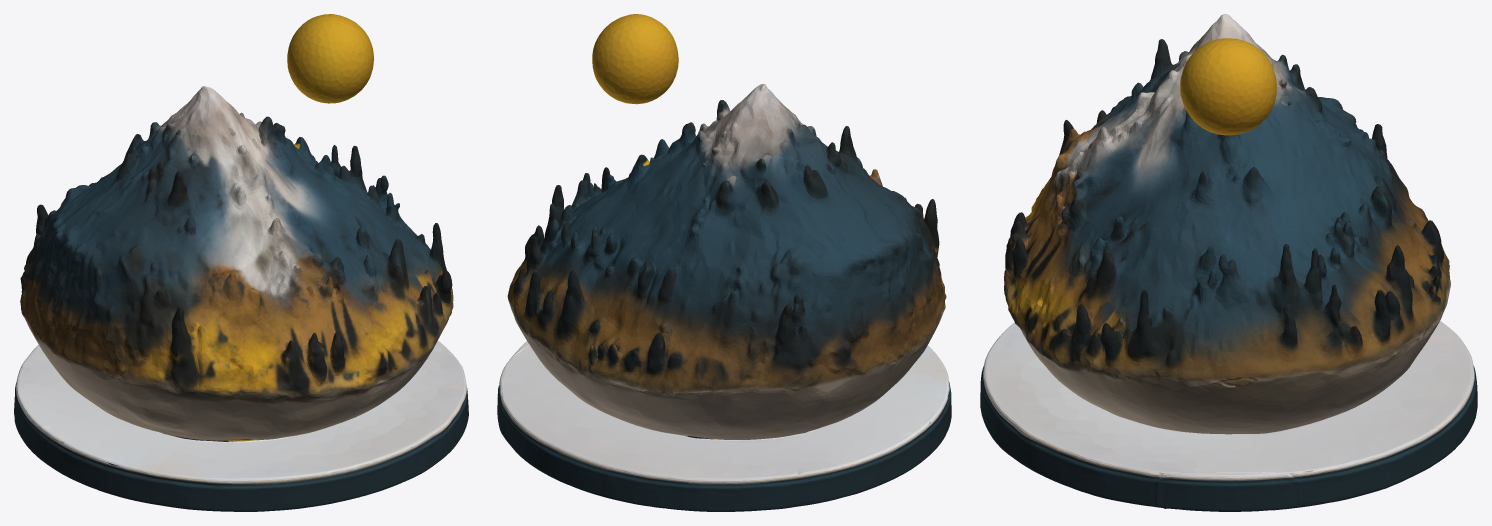
3 renders of one model, left to right at view 1: azimuth 30°, elevation 25°; view 2: azimuth 150°, elevation 25°; view 3: azimuth 270°, elevation 25°, orthographic. The views are drawn at different scales.
Parts seen in each view (by area): view 1: tmpq32qsf2w.ply; view 2: tmpq32qsf2w.ply; view 3: tmpq32qsf2w.ply.
Boxes of the visible parts, x1,y1,x2,y2 form: tmpq32qsf2w.ply: (14, 14, 468, 511); tmpq32qsf2w.ply: (497, 14, 951, 511); tmpq32qsf2w.ply: (980, 14, 1477, 511).
Size of the model in its own units: 0.9979 by 0.9187 by 1.
Materials: 1 (1 with a texture image).
